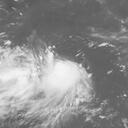cyclone: (48, 58, 88, 101)
